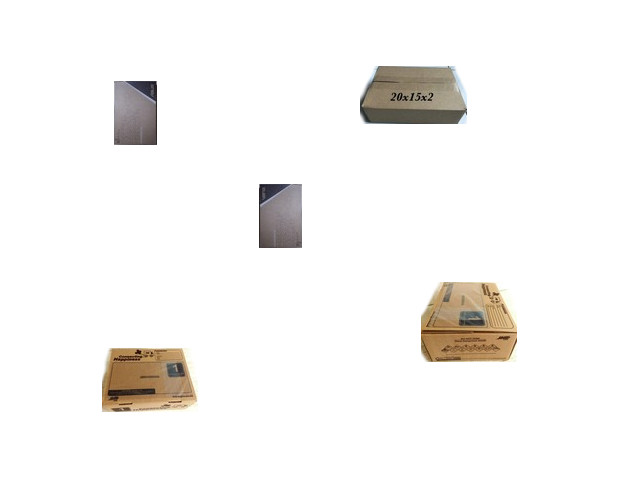cardboard: (421, 284, 515, 362), (363, 66, 465, 124), (101, 349, 195, 411), (113, 81, 158, 145), (259, 184, 301, 249)
